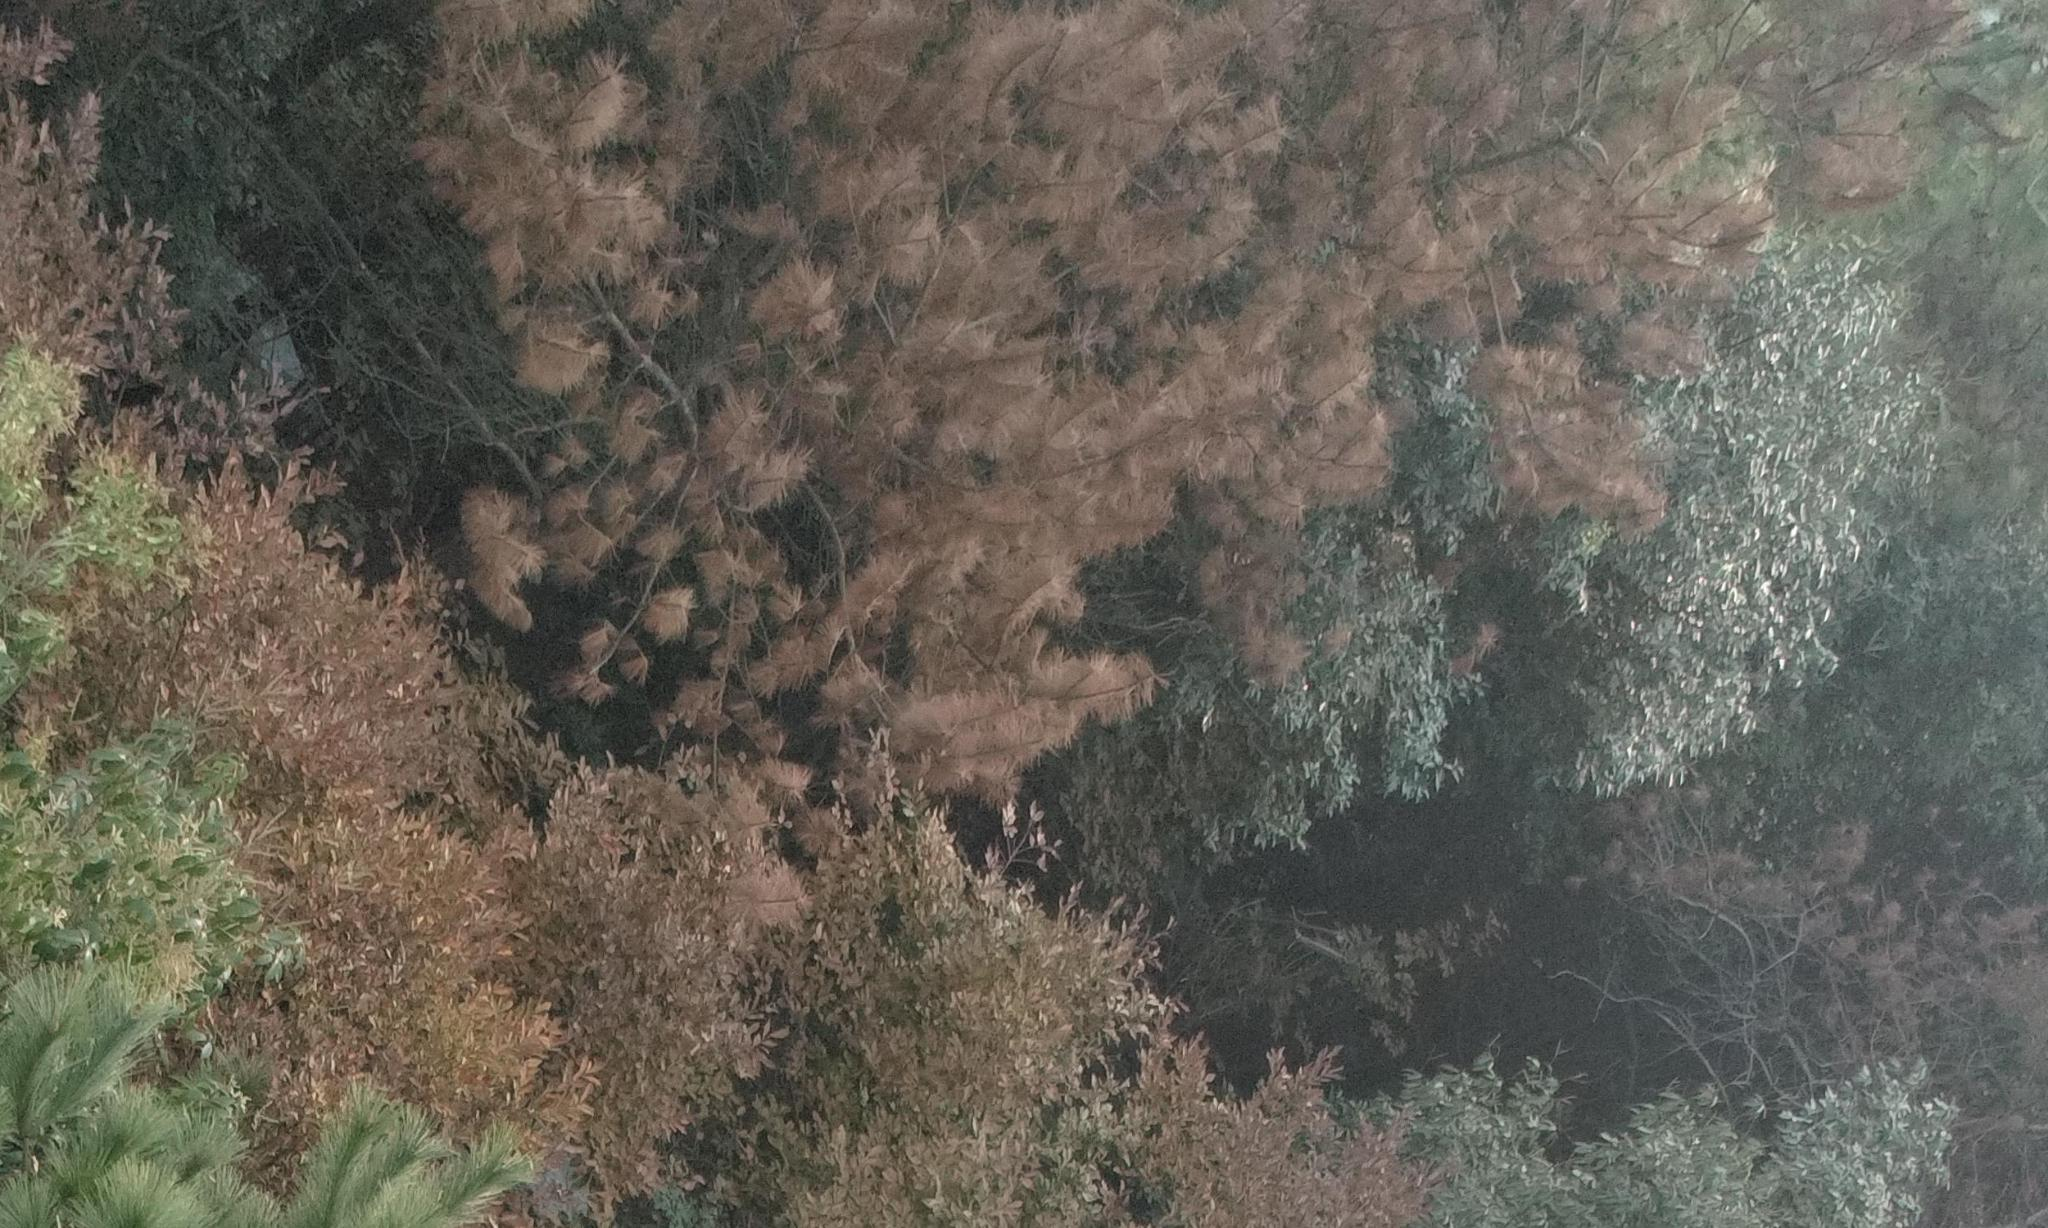heavy: (412, 9, 1175, 785), (1209, 7, 1935, 520)
